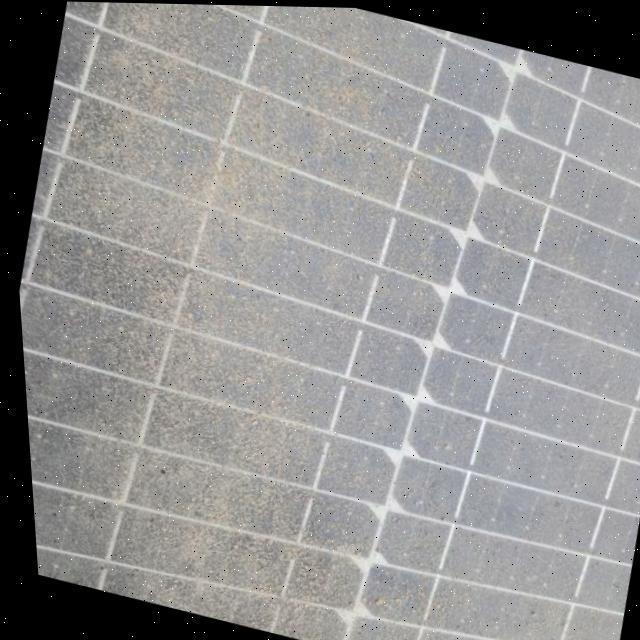Surface Contaminant: (293, 22, 640, 640)
